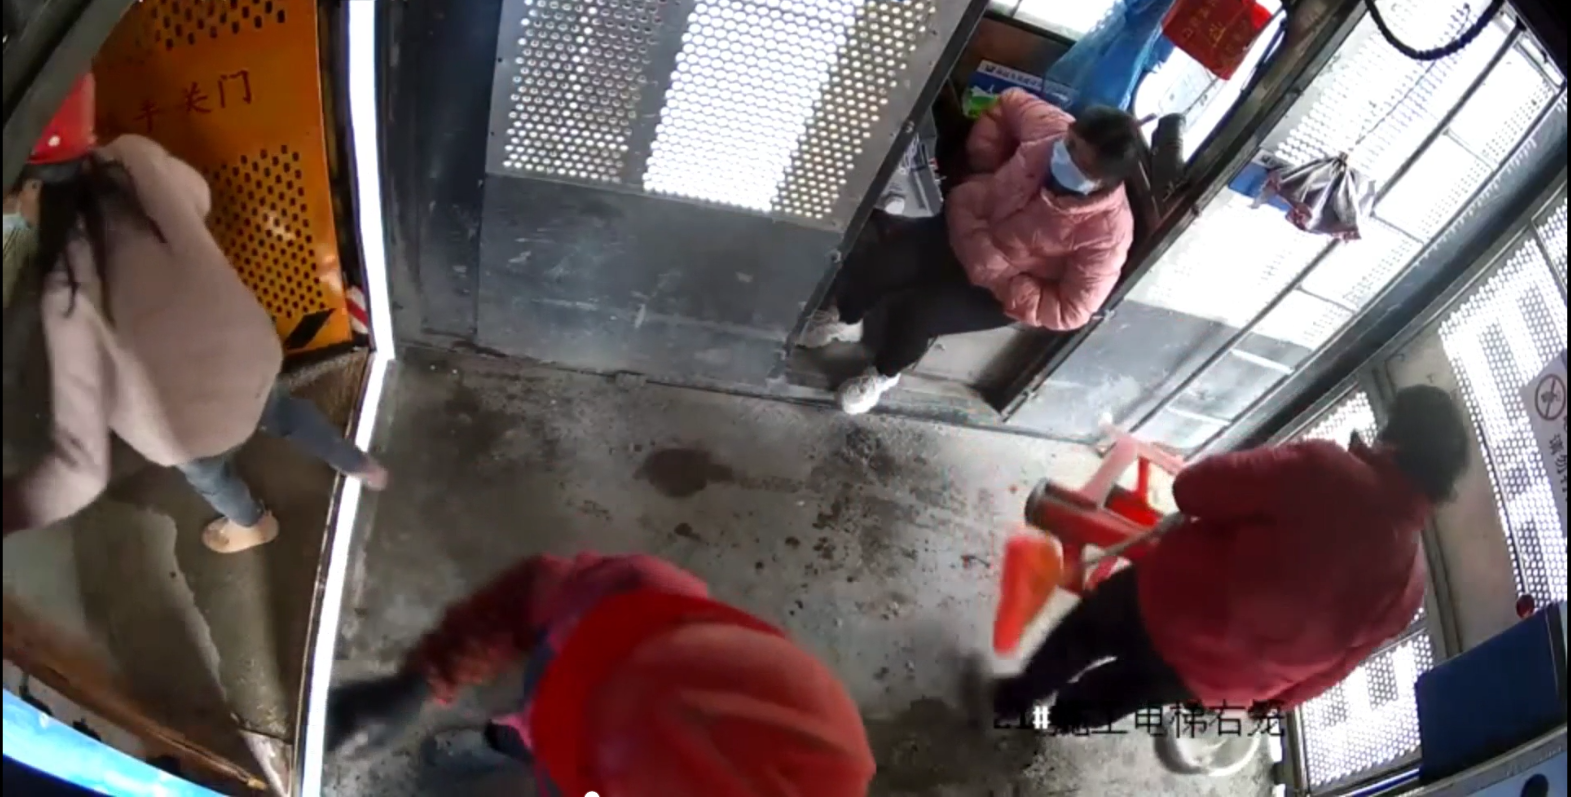person: (1, 63, 389, 556), (996, 383, 1467, 732), (325, 550, 875, 797), (796, 82, 1147, 416)
